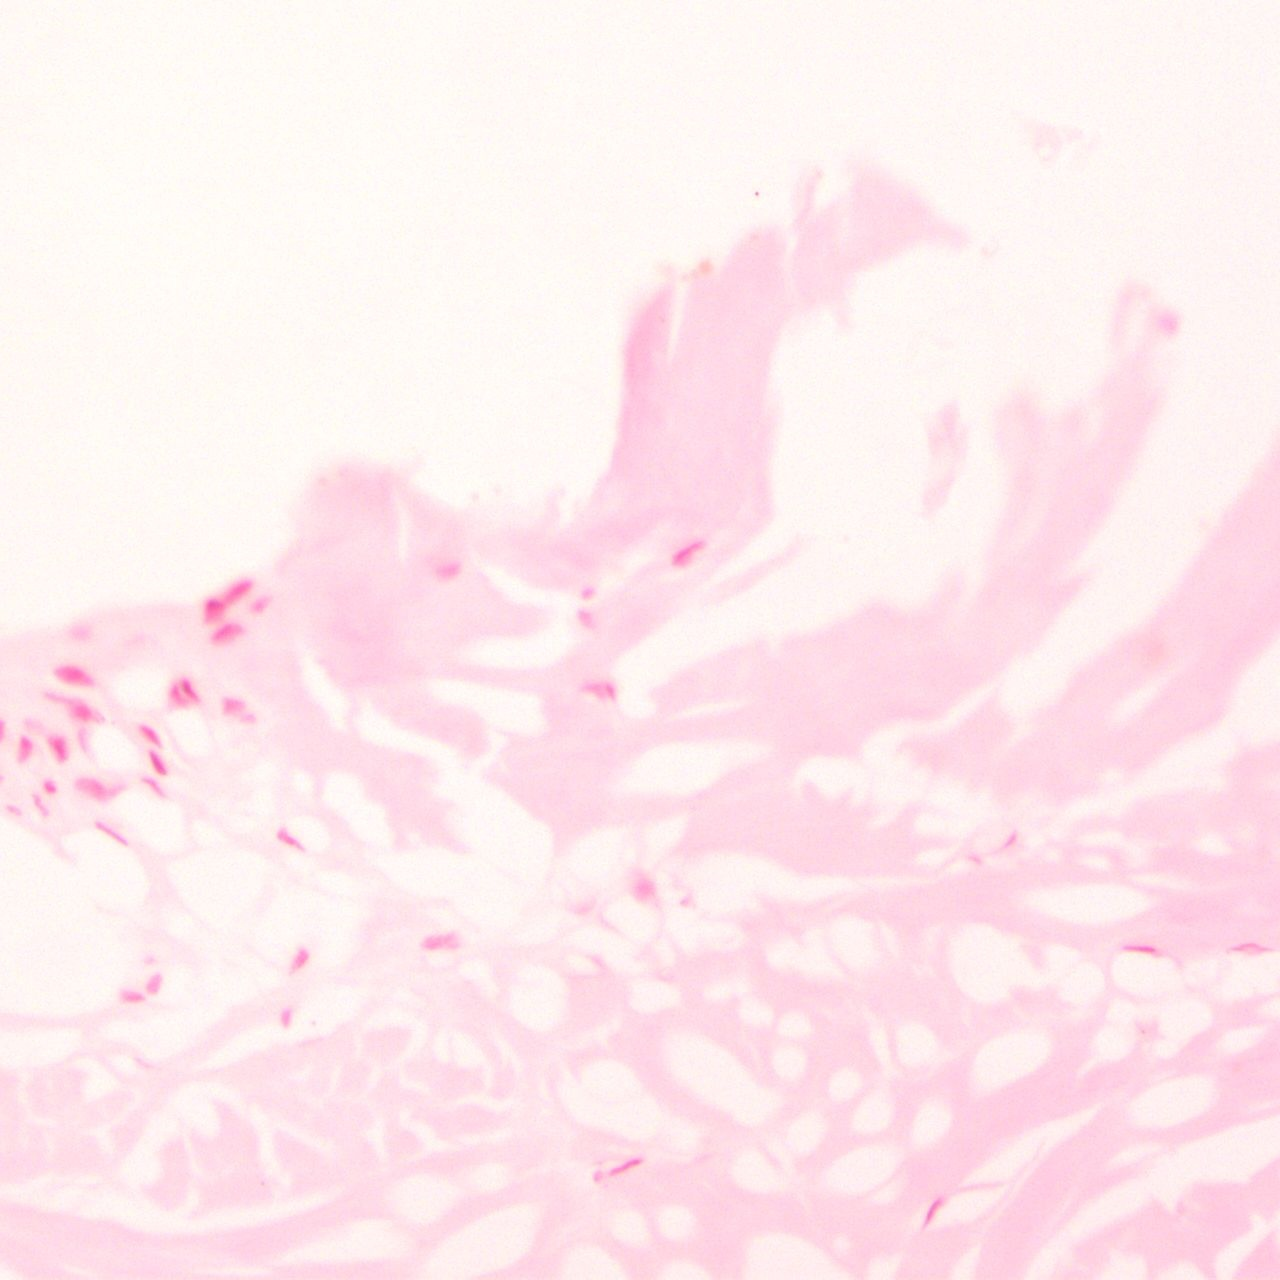dust: (753, 190, 760, 196)
nucleus-AC: (195, 568, 256, 627), (42, 685, 109, 730), (75, 765, 120, 808), (50, 656, 98, 695), (668, 535, 714, 571), (915, 1191, 947, 1232), (91, 816, 130, 847), (282, 941, 316, 976), (272, 824, 307, 857), (139, 771, 171, 805), (207, 617, 243, 647), (45, 731, 74, 767), (574, 680, 622, 701), (606, 1155, 644, 1180), (137, 721, 166, 753), (420, 932, 462, 951), (144, 749, 170, 778), (164, 680, 189, 710), (431, 561, 467, 583), (142, 969, 166, 999), (15, 731, 34, 768), (30, 789, 52, 819), (217, 693, 246, 713), (179, 678, 200, 704), (246, 595, 270, 618), (4, 799, 25, 818), (117, 989, 143, 1002), (1123, 944, 1157, 953), (279, 1007, 293, 1029), (43, 779, 57, 795), (580, 586, 597, 598)
